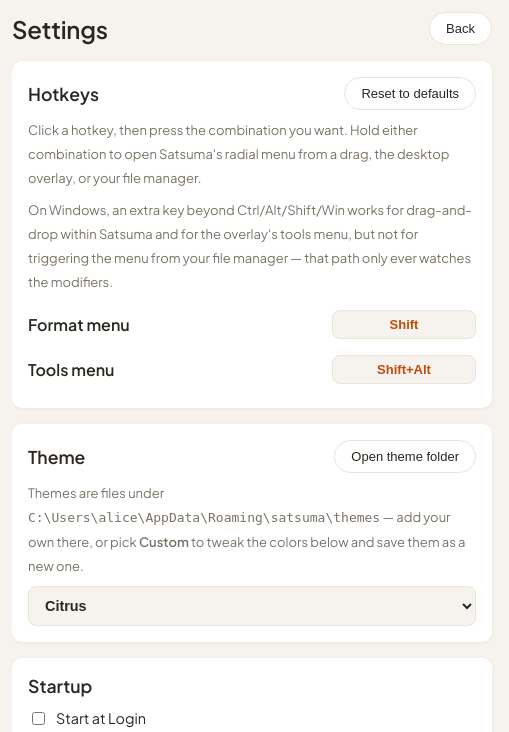
it: SettingsScreen › clears a hotkey validation error on reset
Step 1. Click the button with test id "tools-hotkey-button" → (404, 370), box [332,355,476,384]
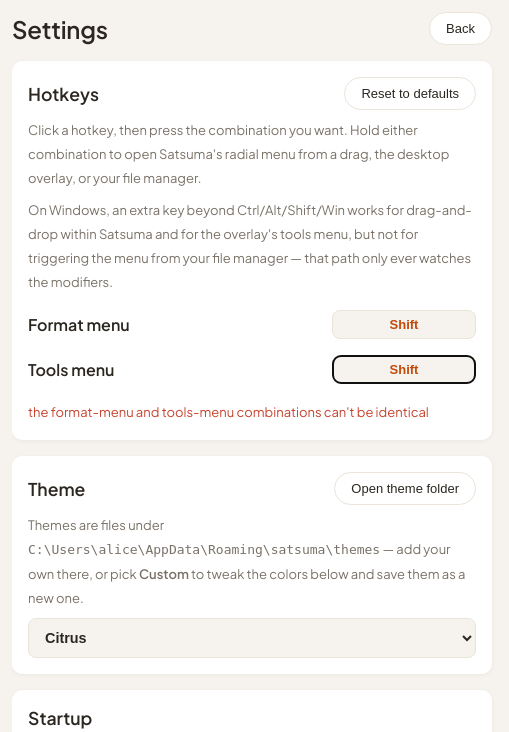
Now the text with test id "hotkey-error" is shown, box [28,400,476,424]
Step 2. Click the button with test id "reset-hotkeys" → (410, 94), box [344,77,476,110]
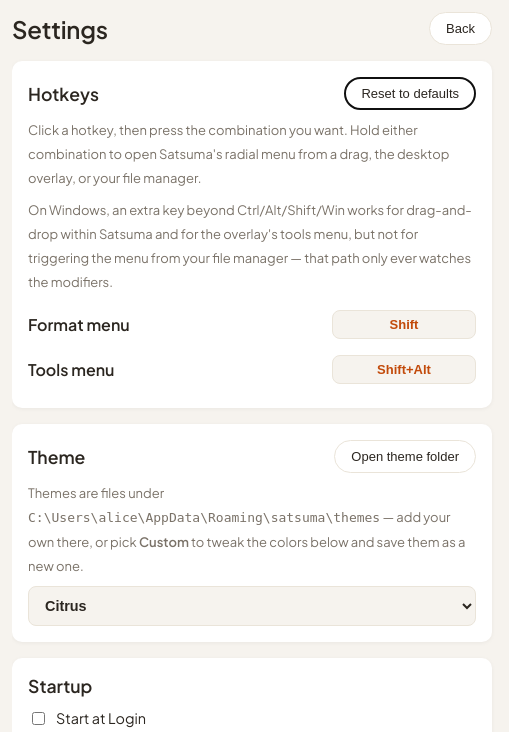
Now the text with test id "hotkey-error" is gone
